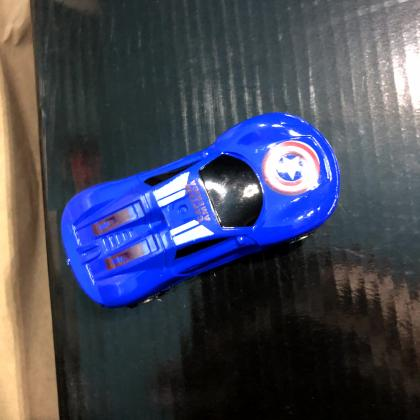Car: (60, 113, 341, 310)
